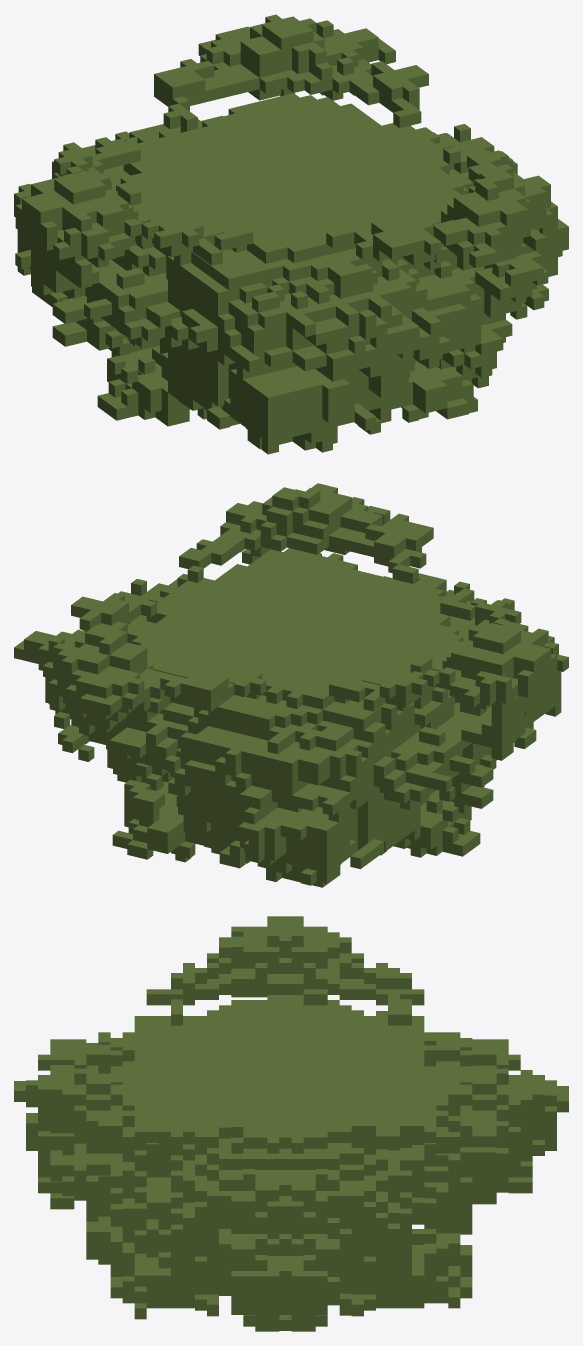
Rendered from good-14.obj.
The picture shows the model from 3 angles, top to bottom: view 1: azimuth 30°, elevation 25°; view 2: azimuth 150°, elevation 25°; view 3: azimuth 270°, elevation 25°; orthographic projection. The views are drawn at different scales.
Size of the model in its own units: 4.7 by 2.2 by 4.6.
Materials: 1 (1 with a texture image).
